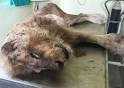lion: (3, 2, 120, 79)
